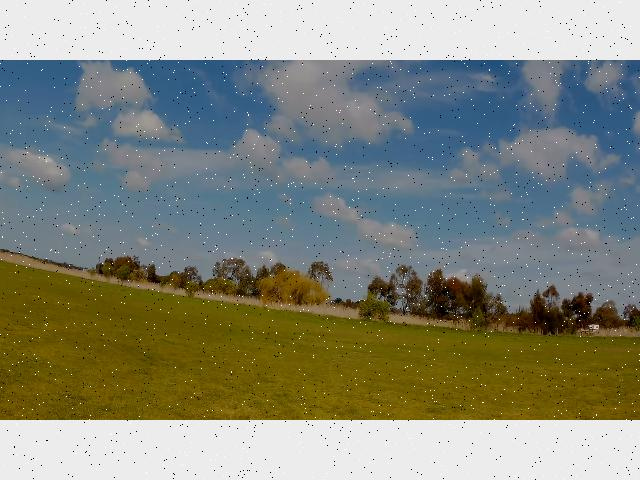Anti-Drone: (352, 211, 370, 225)
